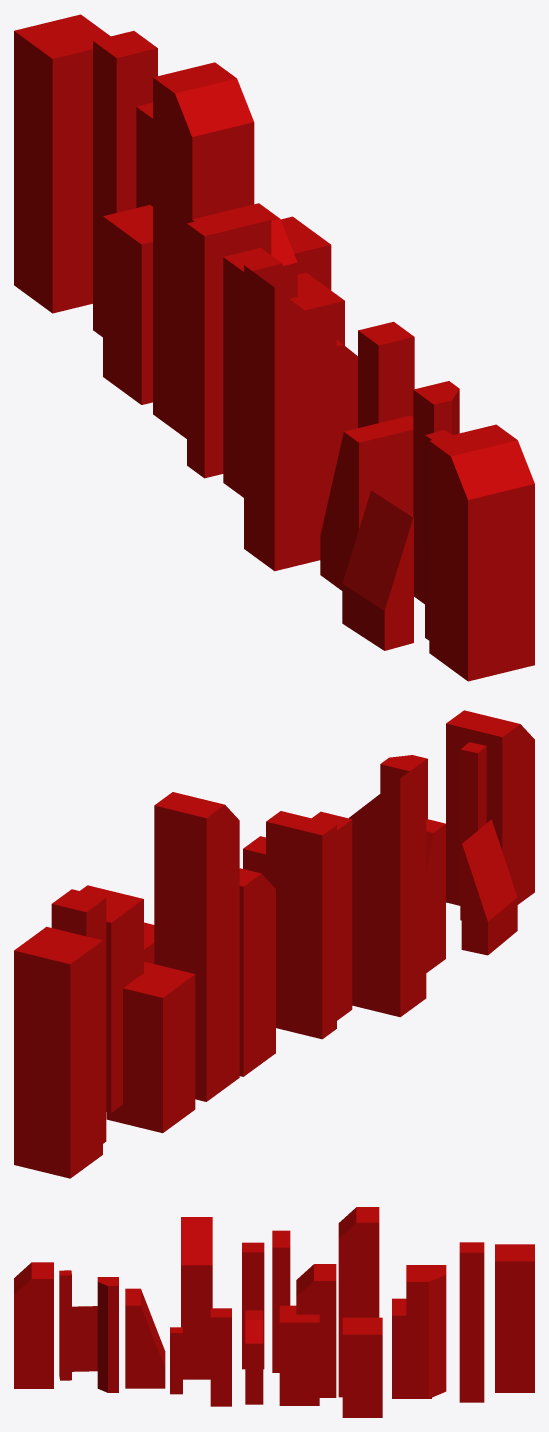
File: BuildingWall.fbx
The picture shows the model from 3 angles, top to bottom: view 1: azimuth 30°, elevation 25°; view 2: azimuth 150°, elevation 25°; view 3: azimuth 270°, elevation 25°; orthographic projection. The views are drawn at different scales.
Visible parts, largest first — view 1: Cube; view 2: Cube; view 3: Cube.
Part boxes in pixels (bbox=[...]): Cube: bbox=[14, 14, 534, 681]; Cube: bbox=[14, 710, 534, 1178]; Cube: bbox=[14, 1207, 534, 1417].
Bounding box in the file's own units: 6896 × 10310 × 27887.
